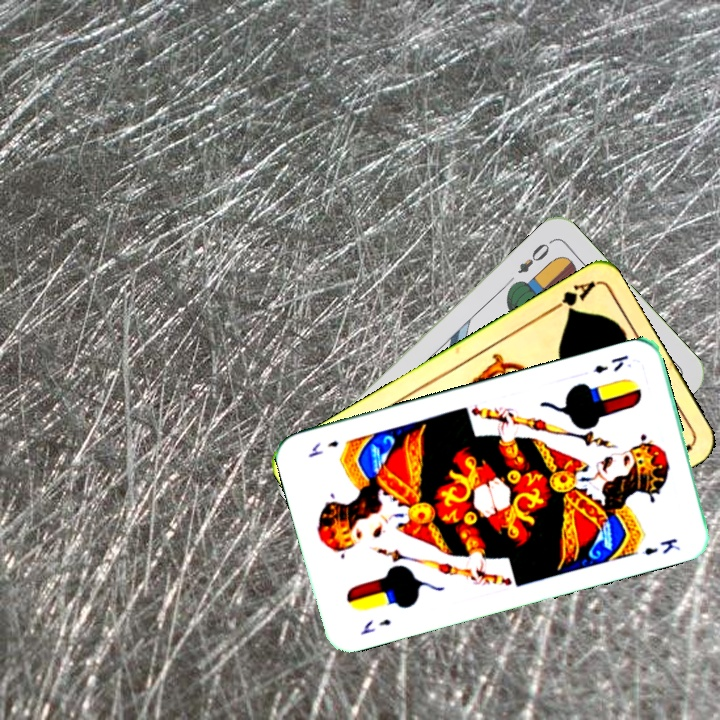EK: (590, 351, 631, 377), (356, 615, 394, 637)
EO: (513, 236, 555, 277)
GA: (543, 277, 597, 316)
